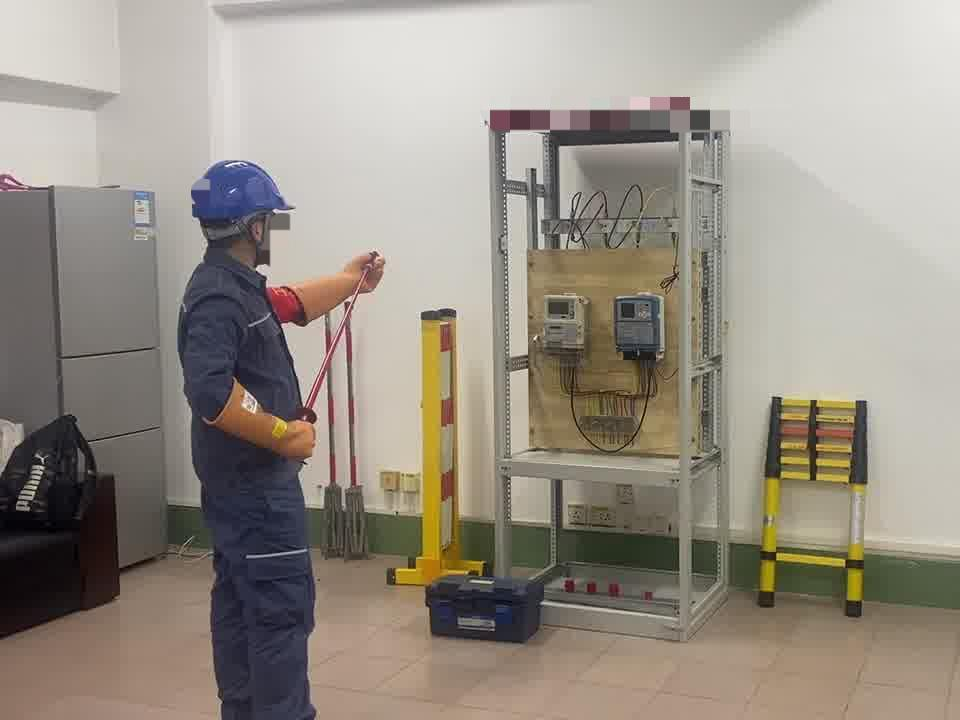halt: (193, 161, 297, 269)
inear: (237, 214, 275, 262)
